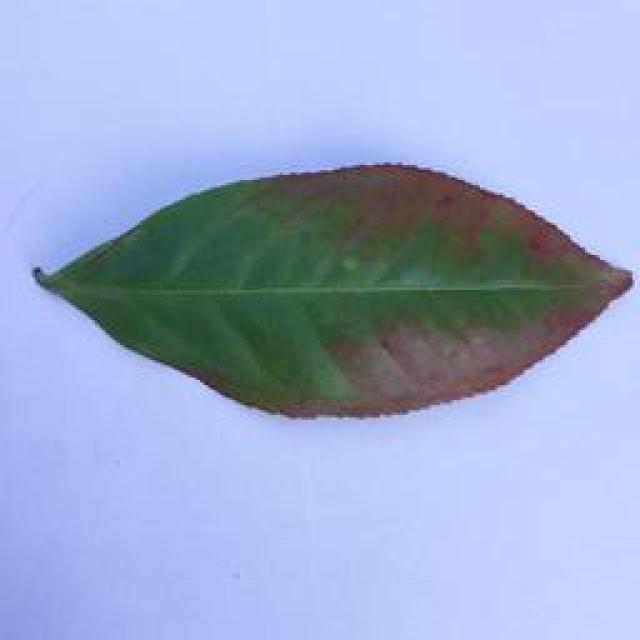Red Leaf Spot: (15, 153, 640, 425)
